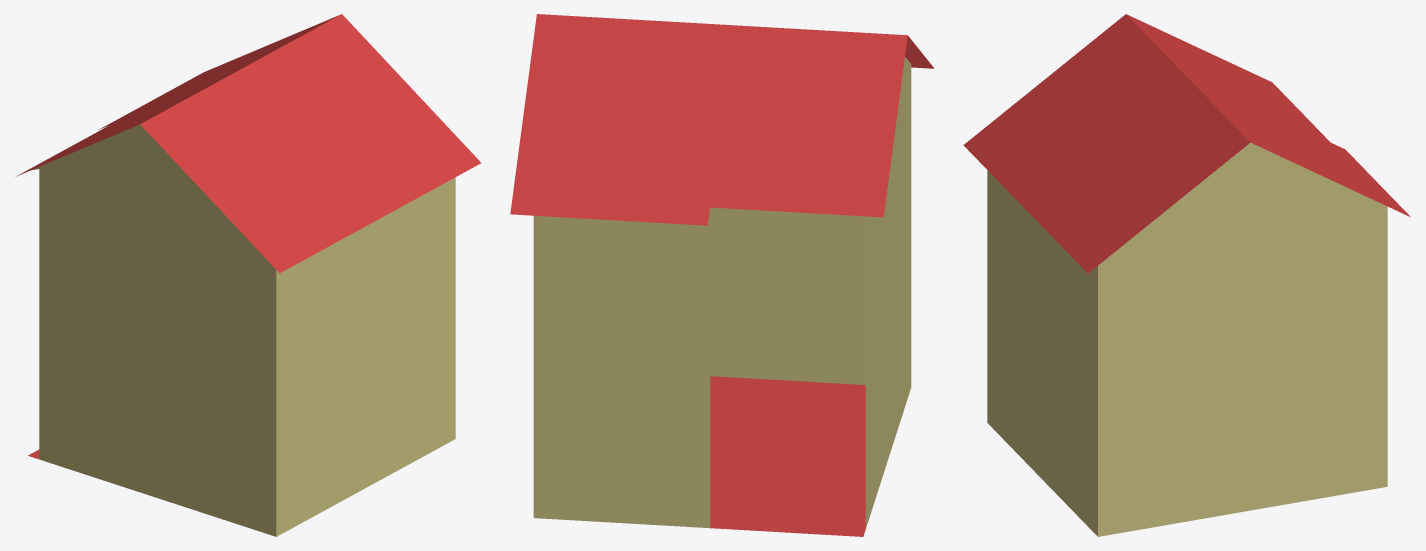
3 views of the same model, side by side, from view 1: azimuth 30°, elevation 25°; view 2: azimuth 150°, elevation 25°; view 3: azimuth 270°, elevation 25° (orthographic). The views are drawn at different scales.
Size of the model in its own units: 11.74 by 12.21 by 11.32.
